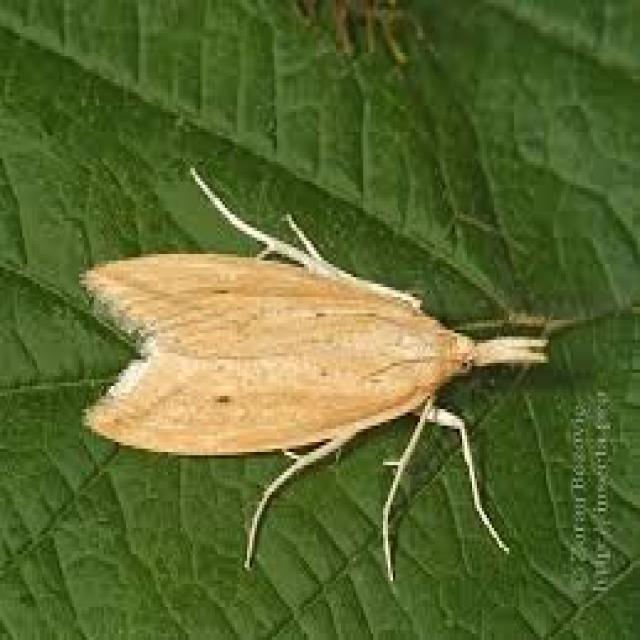yellow-stem-borer: (59, 154, 568, 584)
